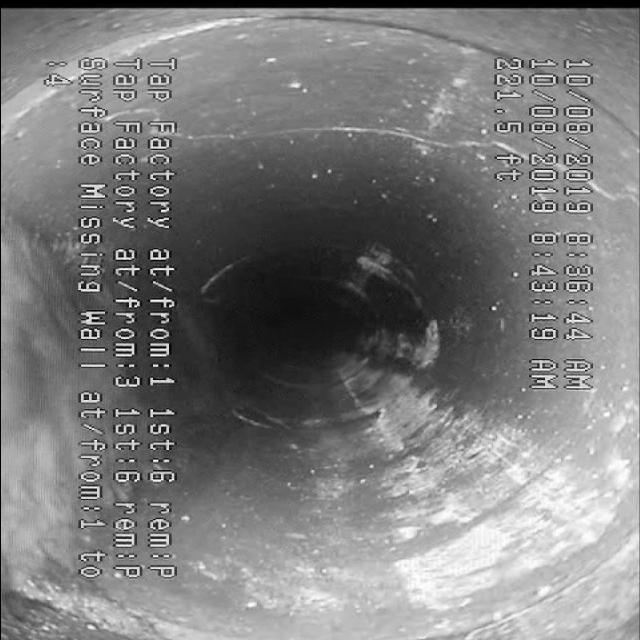Crack: (190, 115, 480, 153)
